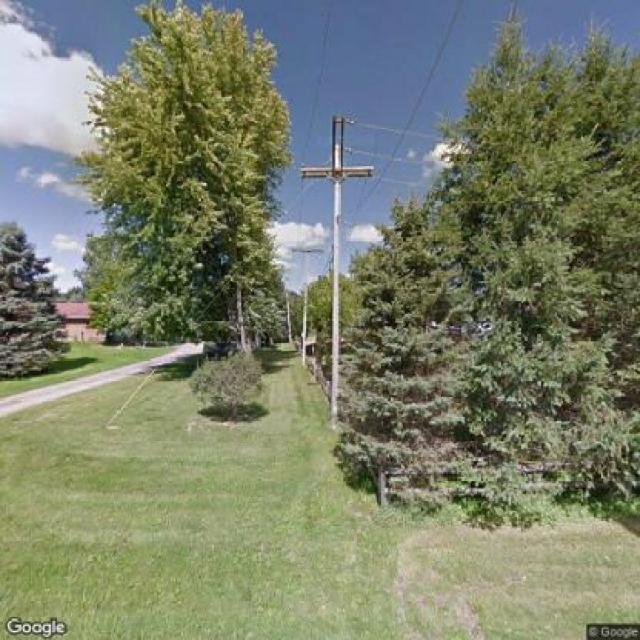pole: (296, 105, 369, 424)
